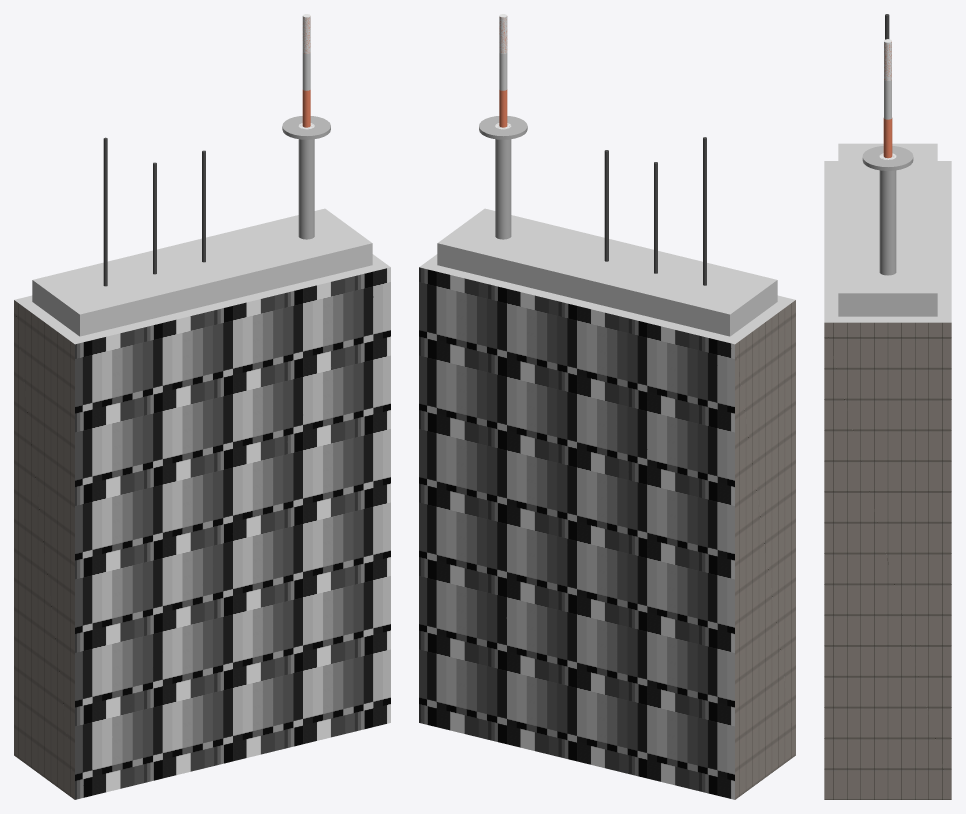
The model's file is KoPf_Fernmeldeamt_lod3.dae.
The picture shows the model from 3 angles, left to right: view 1: azimuth 30°, elevation 25°; view 2: azimuth 150°, elevation 25°; view 3: azimuth 270°, elevation 25°; orthographic projection. The views are drawn at different scales.
Parts seen in each view (by area): view 1: SketchUp (×7); view 2: SketchUp (×6); view 3: SketchUp (×8).
Boxes of the visible parts, left/top/right/bottom form: SketchUp (×7): left=14, top=116, right=390, bottom=799; SketchUp (×6): left=419, top=116, right=795, bottom=799; SketchUp (×8): left=824, top=42, right=951, bottom=799.
Bounding box in the file's own units: 1772 × 591 × 3740.
